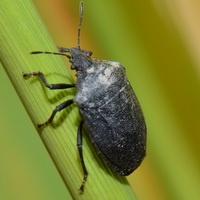insect: (23, 2, 145, 191)
